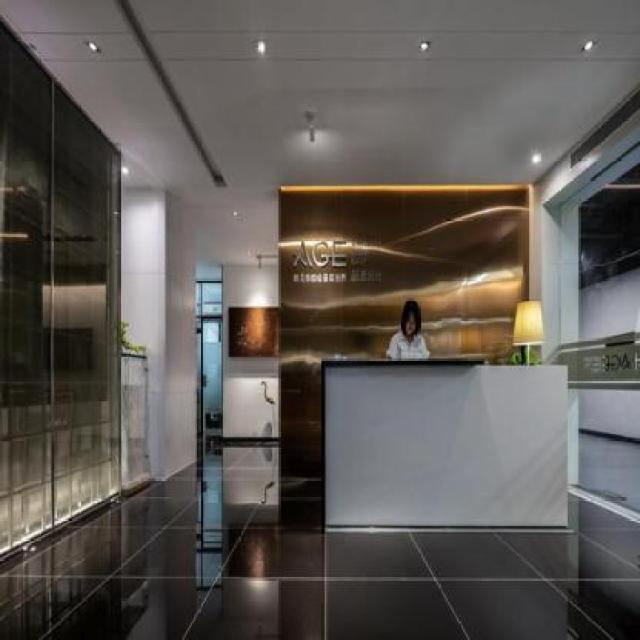frontdesk: (305, 345, 586, 540)
